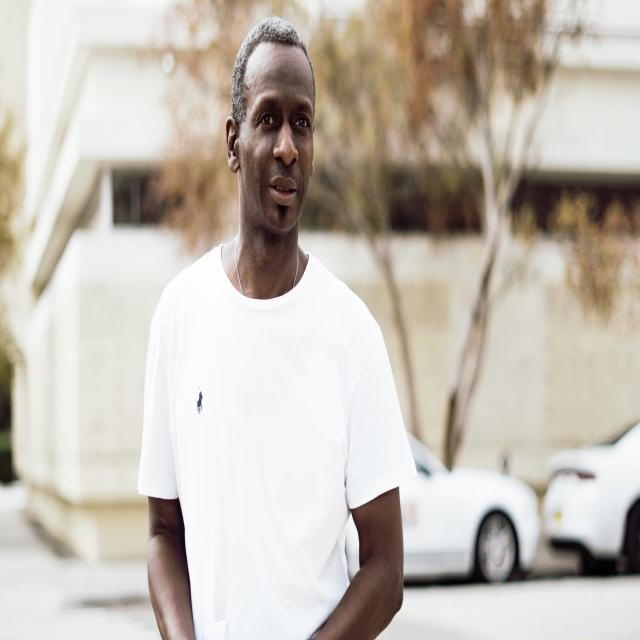adult: (142, 11, 407, 640)
